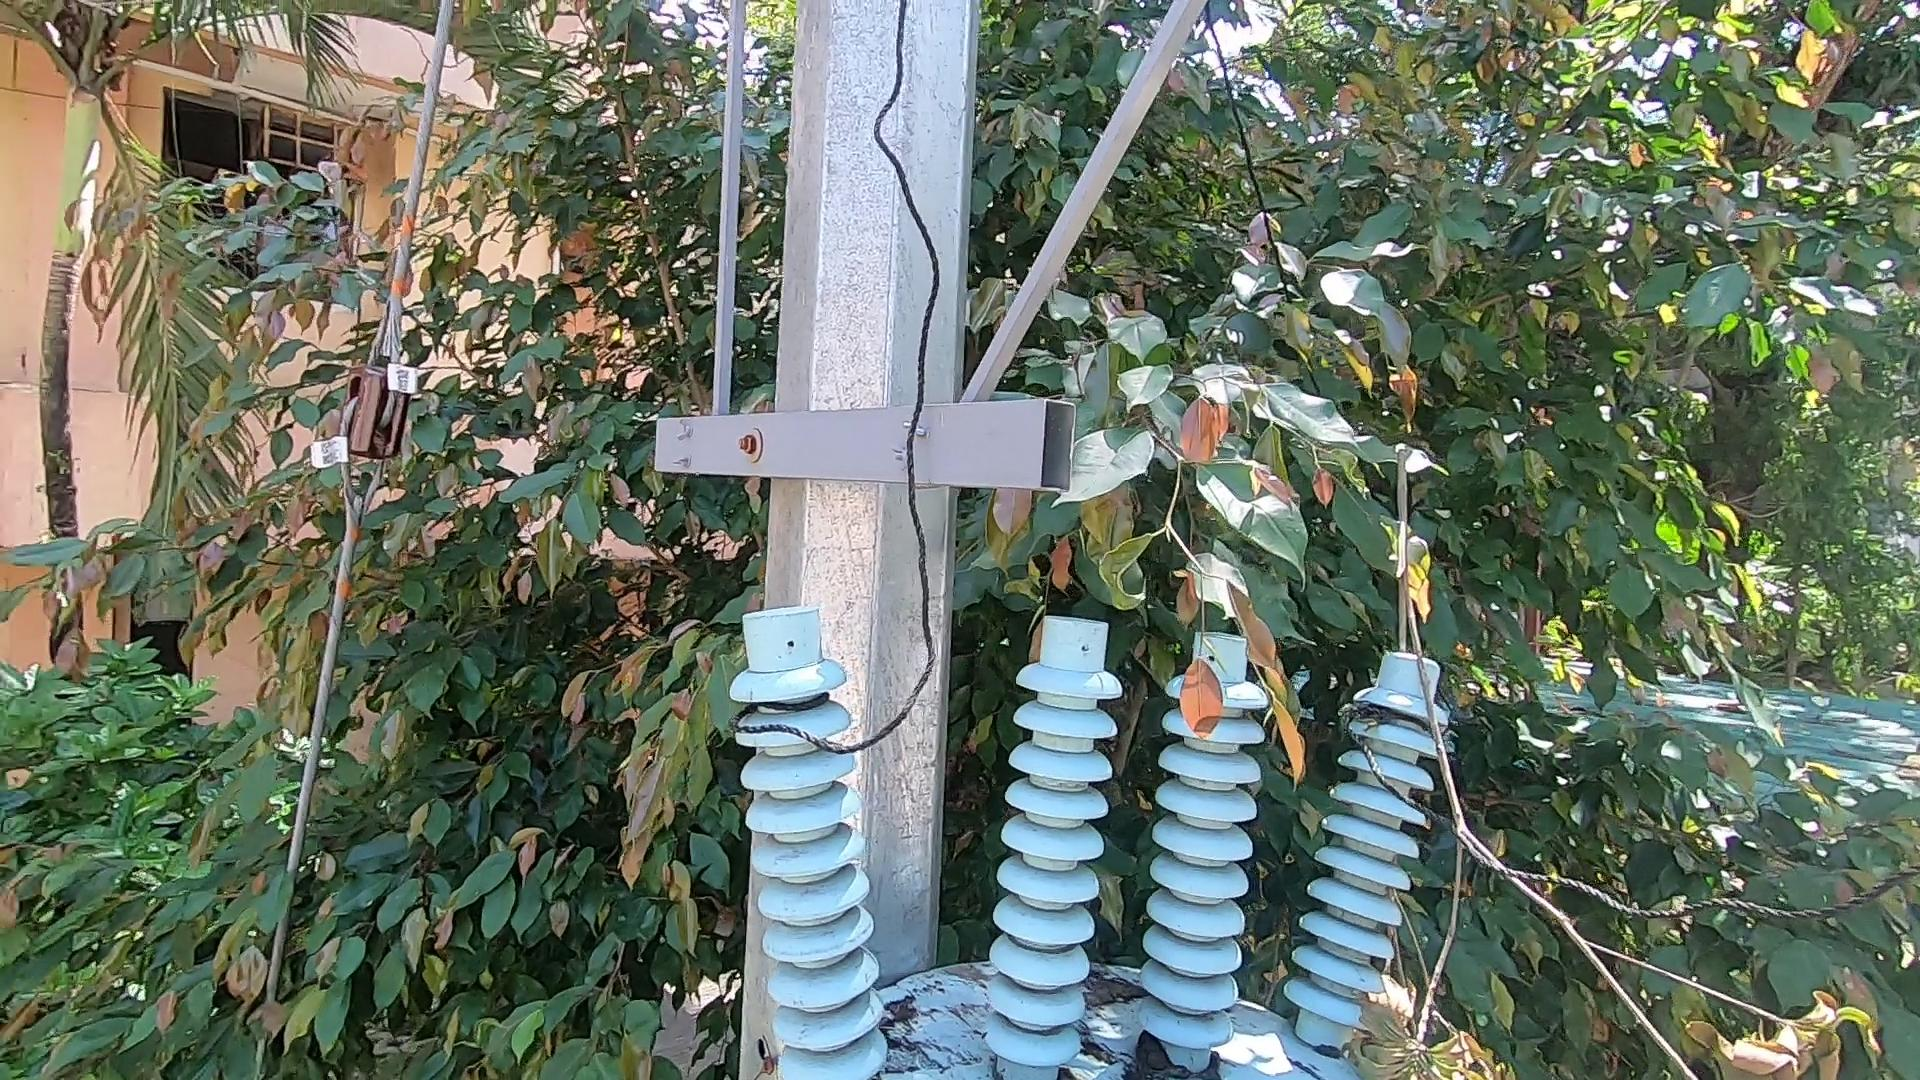branch with leaves: (1369, 435, 1888, 1080)
leaf: (1124, 1039, 1178, 1073), (1203, 1051, 1229, 1073)
